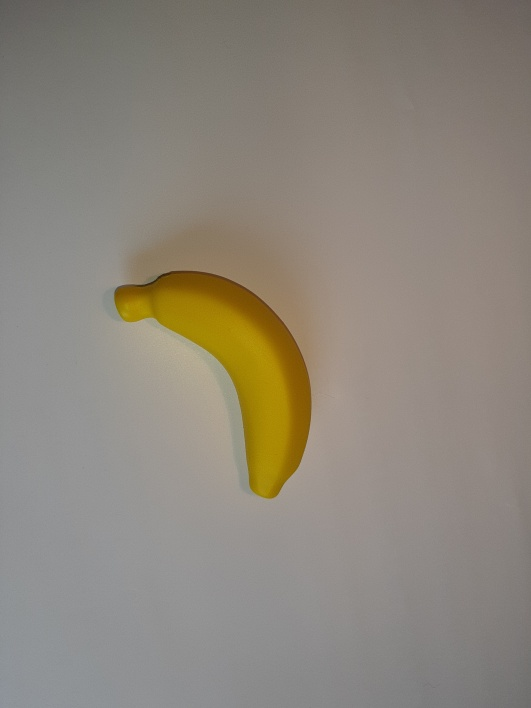banana: (130, 271, 304, 363)
